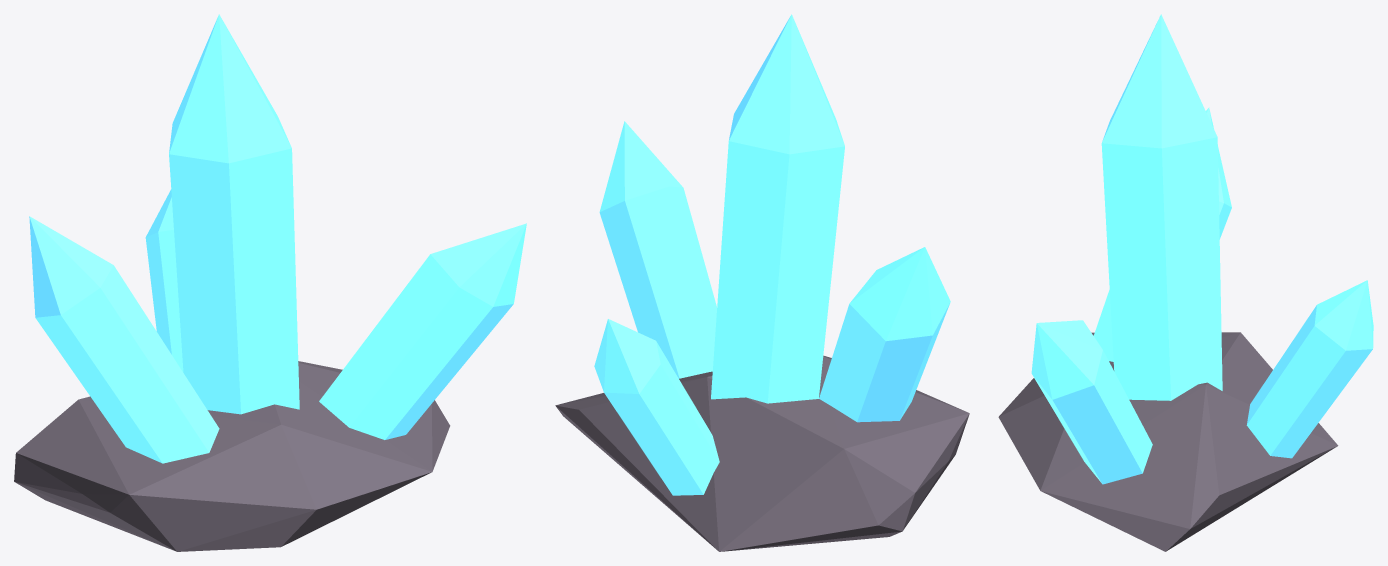
File: Crystal_ClusterSmall_Blue.glb
The picture shows the model from 3 angles, left to right: view 1: azimuth 30°, elevation 25°; view 2: azimuth 150°, elevation 25°; view 3: azimuth 270°, elevation 25°; orthographic projection. The views are drawn at different scales.
Parts seen in each view (by area): view 1: Crystal_ClusterSmall_blue; view 2: Crystal_ClusterSmall_blue; view 3: Crystal_ClusterSmall_blue.
Part boxes in pixels (x1=…): Crystal_ClusterSmall_blue: x1=14, y1=14, x2=526, y2=551; Crystal_ClusterSmall_blue: x1=555, y1=14, x2=969, y2=551; Crystal_ClusterSmall_blue: x1=998, y1=14, x2=1373, y2=551.
Size of the model in its own units: 0.5883 by 0.6701 by 0.512.
